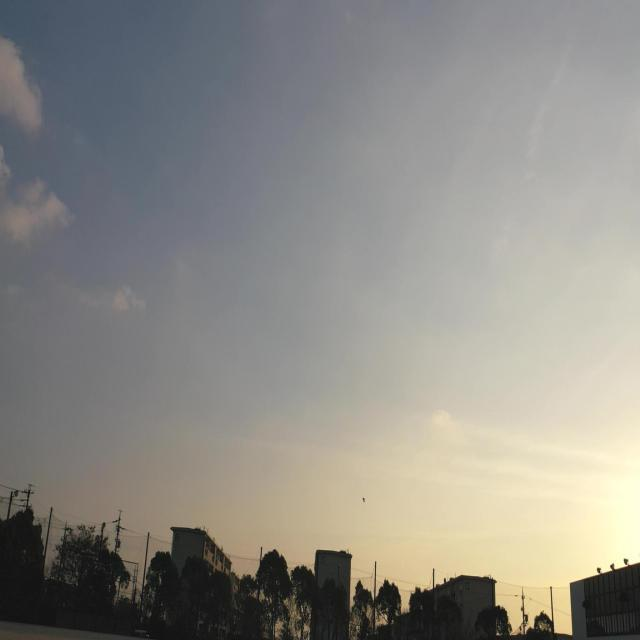Birds: (358, 492, 369, 506)
